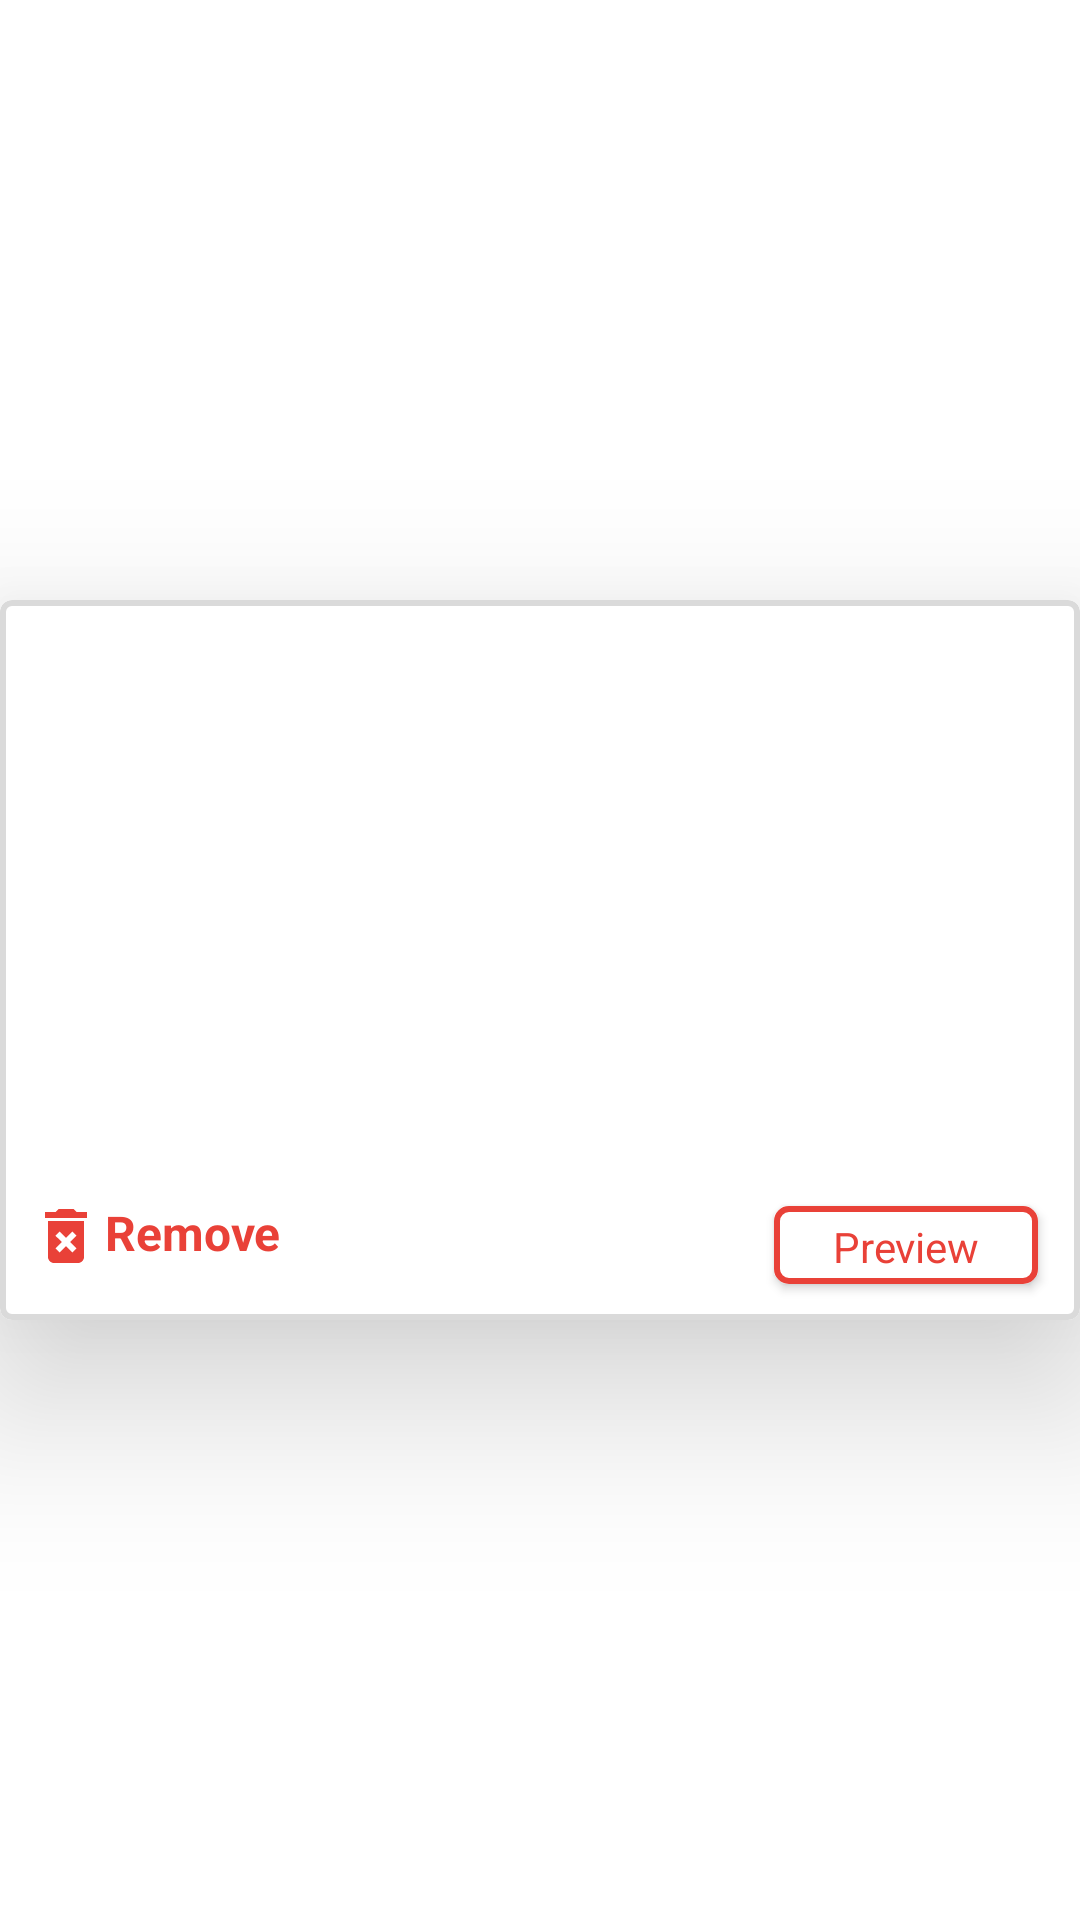

Icon bounding boxes for this 1080*1920 phone screenshot, format (x1, y1, x2, y2):
delete: (45, 1209, 87, 1263)
